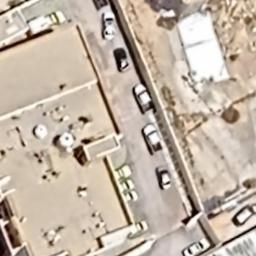pickup: (130, 86, 160, 118), (140, 122, 166, 156), (154, 163, 174, 192)
sedan: (98, 12, 121, 43), (178, 236, 212, 256), (110, 48, 136, 74)
